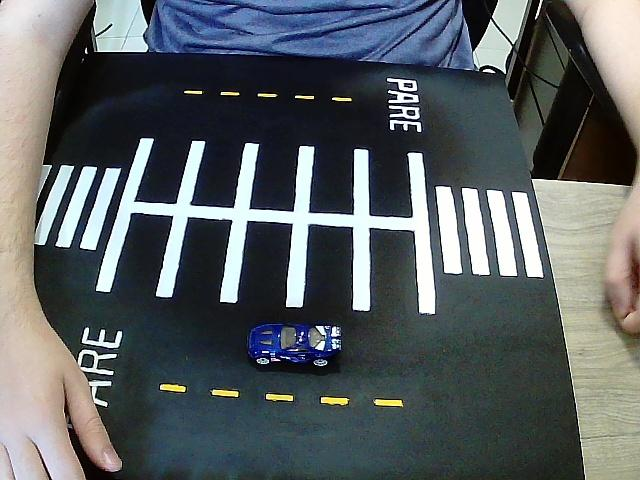Carro: (247, 323, 343, 371)
